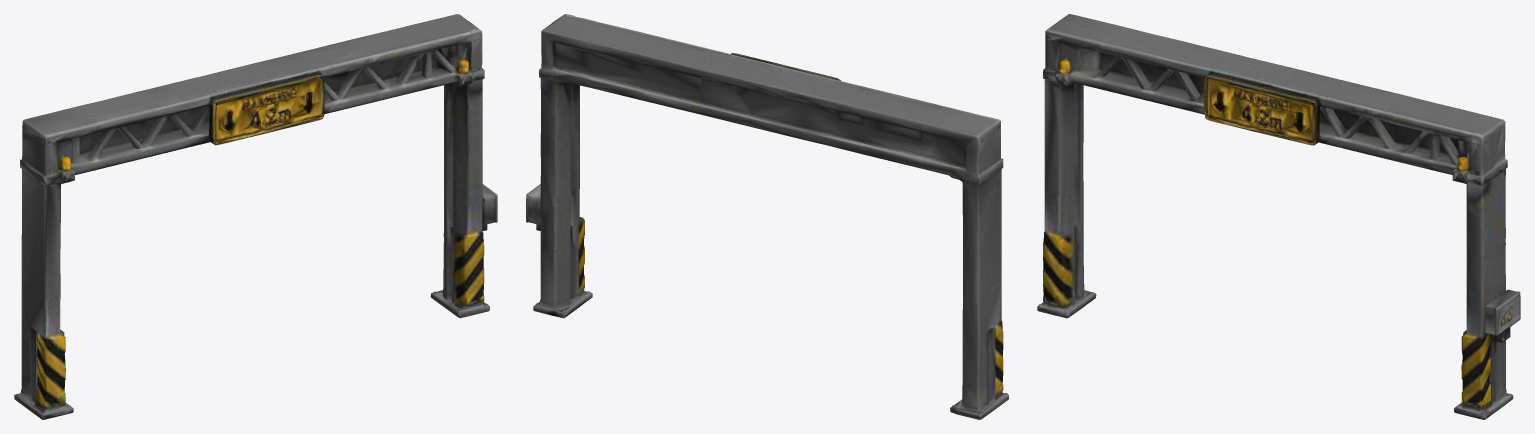
File: veh-d-gantry.glb
3 renders of one model, left to right at view 1: azimuth 30°, elevation 25°; view 2: azimuth 150°, elevation 25°; view 3: azimuth 330°, elevation 25°, orthographic.
Parts seen in each view (by area): view 1: tripo_node_85de6d04-8049-401e-b292-cb731597a809; view 2: tripo_node_85de6d04-8049-401e-b292-cb731597a809; view 3: tripo_node_85de6d04-8049-401e-b292-cb731597a809.
Part boxes in pixels (bbox=[...]): tripo_node_85de6d04-8049-401e-b292-cb731597a809: bbox=[14, 14, 497, 419]; tripo_node_85de6d04-8049-401e-b292-cb731597a809: bbox=[526, 14, 1008, 419]; tripo_node_85de6d04-8049-401e-b292-cb731597a809: bbox=[1037, 14, 1520, 419].
Bounding box in the file's own units: 0.9811 × 0.5735 × 0.1163.
1 material, 1 textured.
